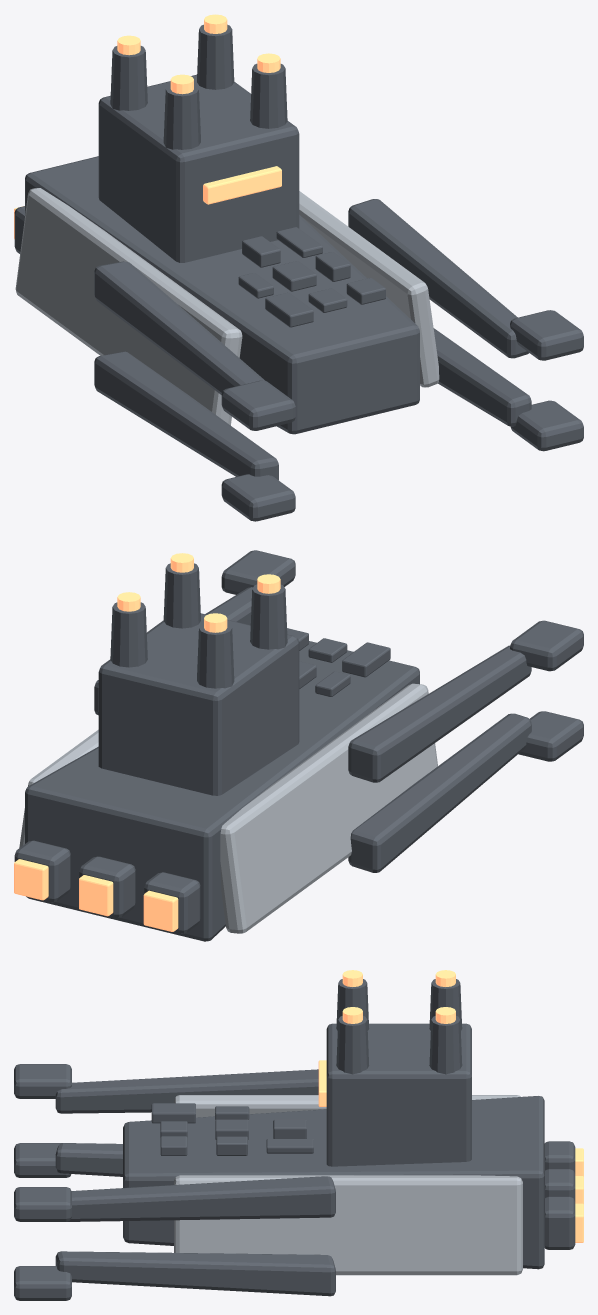
The model's file is aut_battleship.glb.
The picture shows the model from 3 angles, top to bottom: view 1: azimuth 30°, elevation 25°; view 2: azimuth 150°, elevation 25°; view 3: azimuth 270°, elevation 25°; orthographic projection. The views are drawn at different scales.
Parts seen in each view (by area): view 1: slab, citadel, skirt_1, claw_3, claw_1, claw_0, skirt_-1, claw_2, ctip_1, ctip_0, ctip_3, ctip_2 (+12 smaller); view 2: slab, citadel, skirt_1, claw_3, claw_1, ctip_1, ctip_3, stack_3, stack_1, stack_0, stack_2, ctip_0 (+11 smaller); view 3: skirt_-1, slab, citadel, claw_2, claw_0, claw_1, skirt_1, claw_3, ctip_0, ctip_2, ctip_1, vent_0 (+15 smaller).
Part boxes in pixels (x1,y1,x2,y2): slab: (25, 156, 419, 434); citadel: (98, 74, 299, 262); skirt_1: (15, 188, 242, 425); claw_3: (94, 351, 278, 480); claw_1: (94, 261, 265, 394); claw_0: (348, 199, 528, 358); skirt_-1: (299, 191, 439, 387); claw_2: (433, 328, 531, 426); ctip_1: (221, 380, 295, 430); ctip_0: (510, 310, 583, 360); ctip_3: (221, 474, 295, 521); ctip_2: (510, 400, 583, 451); slab: (25, 641, 419, 941); citadel: (98, 613, 299, 795); skirt_1: (220, 683, 437, 933); claw_3: (348, 713, 531, 872); claw_1: (348, 645, 531, 782); ctip_1: (510, 620, 583, 671); ctip_3: (518, 711, 583, 761); stack_3: (250, 584, 287, 649); stack_1: (197, 623, 234, 688); stack_0: (110, 602, 147, 667); stack_2: (163, 563, 200, 628); ctip_0: (221, 550, 295, 594); skirt_-1: (174, 1175, 522, 1275); slab: (123, 1096, 544, 1269); citadel: (326, 1023, 471, 1166); claw_2: (55, 1251, 335, 1296); claw_0: (67, 1176, 335, 1221); claw_1: (55, 1069, 318, 1113); skirt_1: (174, 1095, 520, 1117); claw_3: (55, 1143, 122, 1176); ctip_0: (14, 1187, 71, 1221); ctip_2: (14, 1266, 71, 1300); ctip_1: (14, 1064, 71, 1098); vent_0: (544, 1196, 575, 1249).
Bounding box in the file's own units: 0.3712 × 0.2972 × 0.6272.
